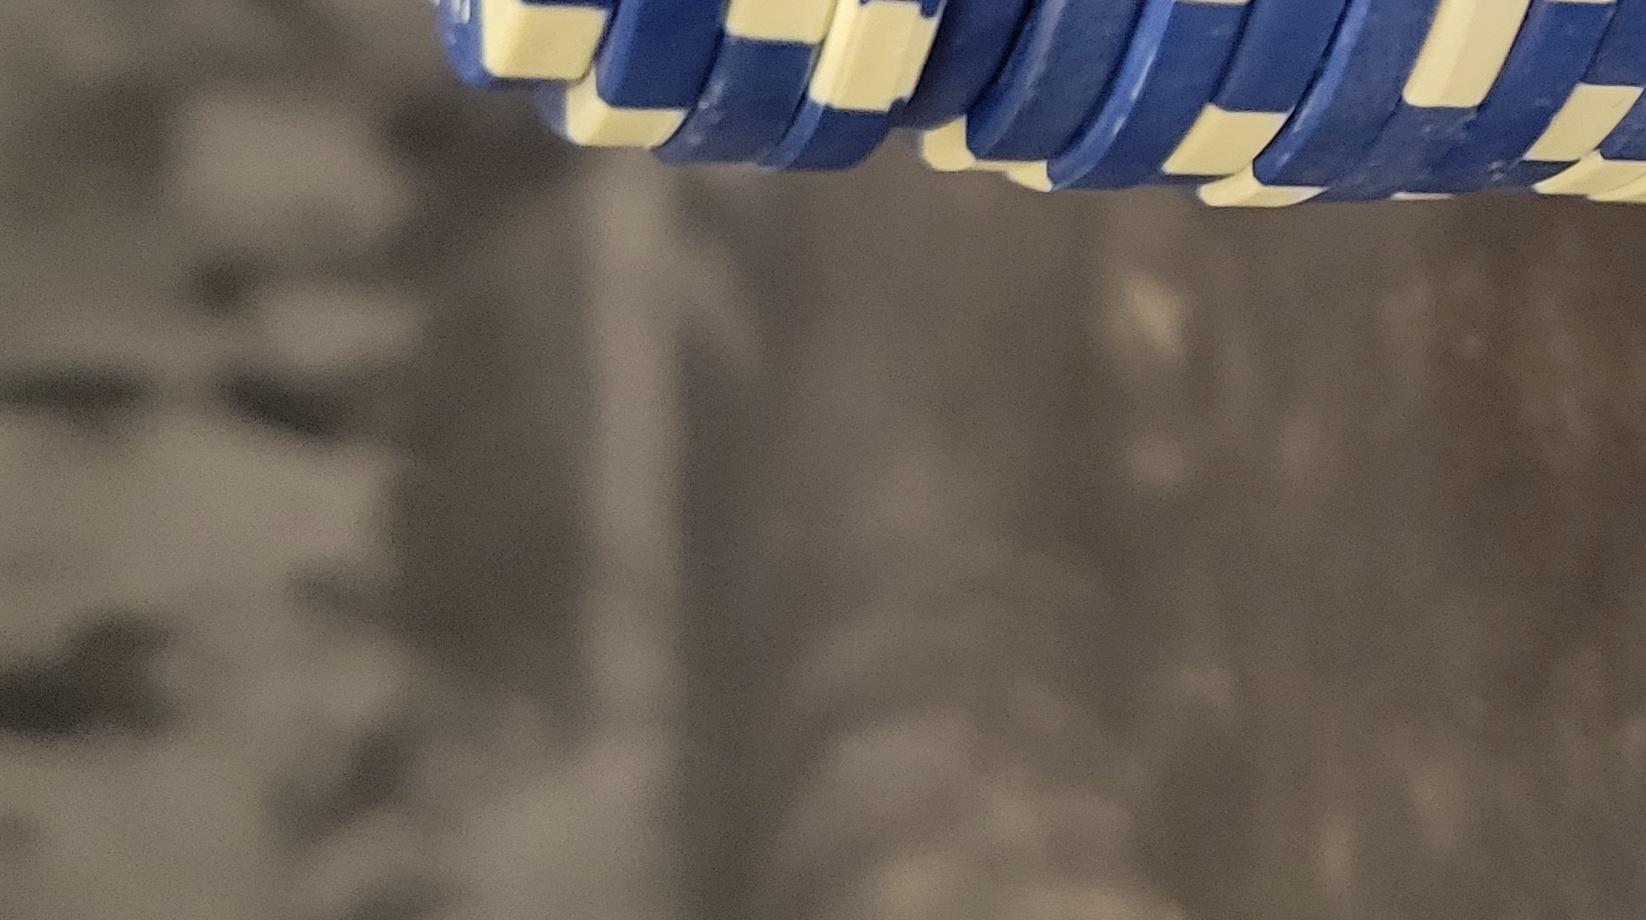Chip: (1, 450, 1171, 920)
